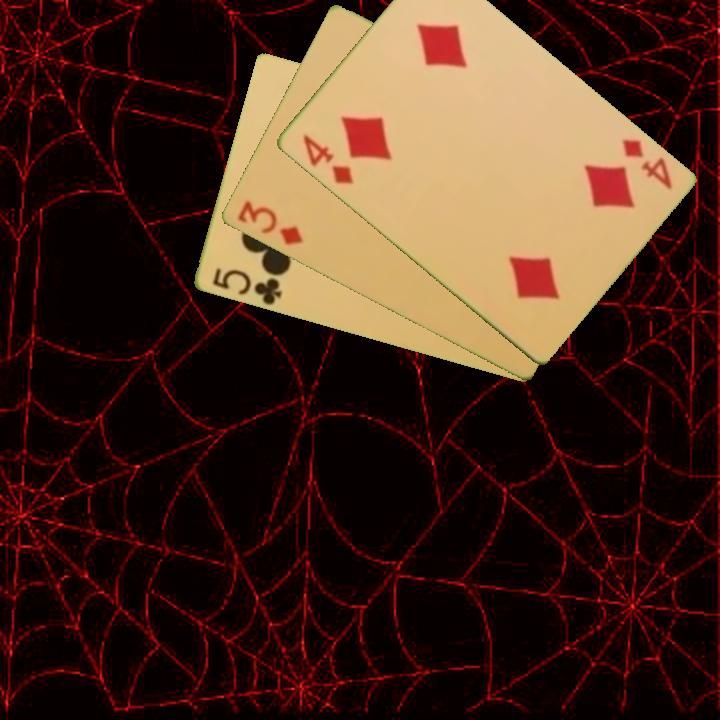3d: (233, 197, 306, 249)
4d: (617, 135, 675, 193), (298, 131, 356, 188)
5c: (208, 265, 284, 308)
